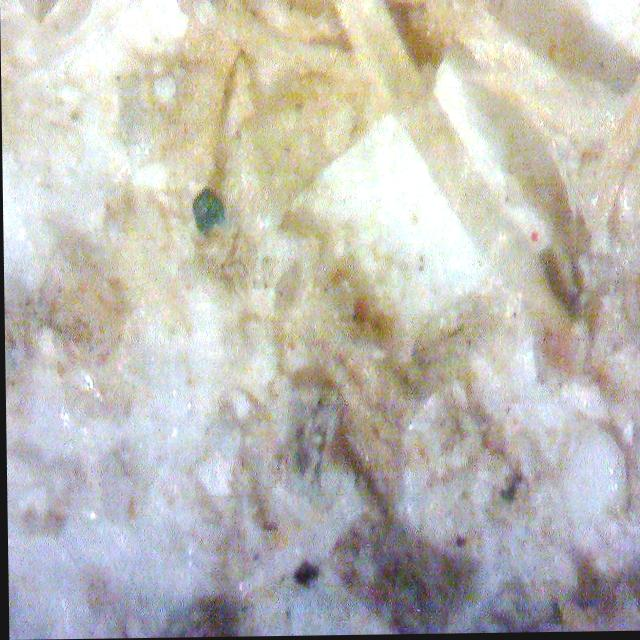microplastic: (193, 185, 224, 237)
